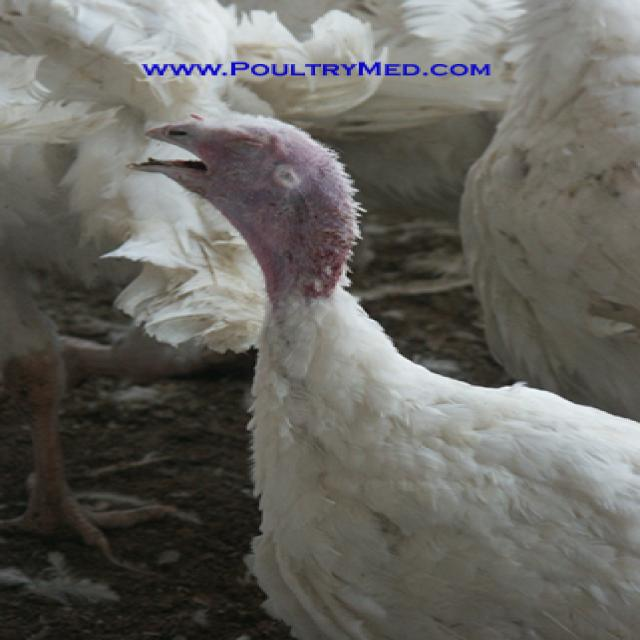Infectios bronchitis: (143, 116, 364, 311)
